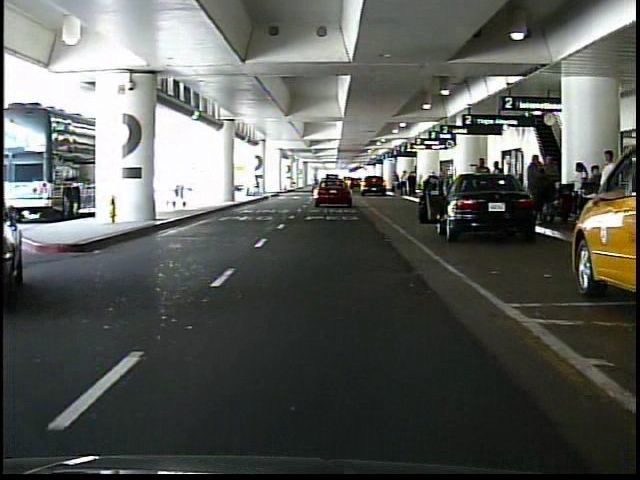person: (600, 147, 619, 234), (528, 154, 551, 217), (568, 159, 589, 224), (584, 163, 604, 228), (474, 156, 491, 211), (491, 158, 507, 211), (402, 169, 411, 198), (410, 172, 418, 199), (395, 175, 403, 195), (551, 150, 552, 223)
